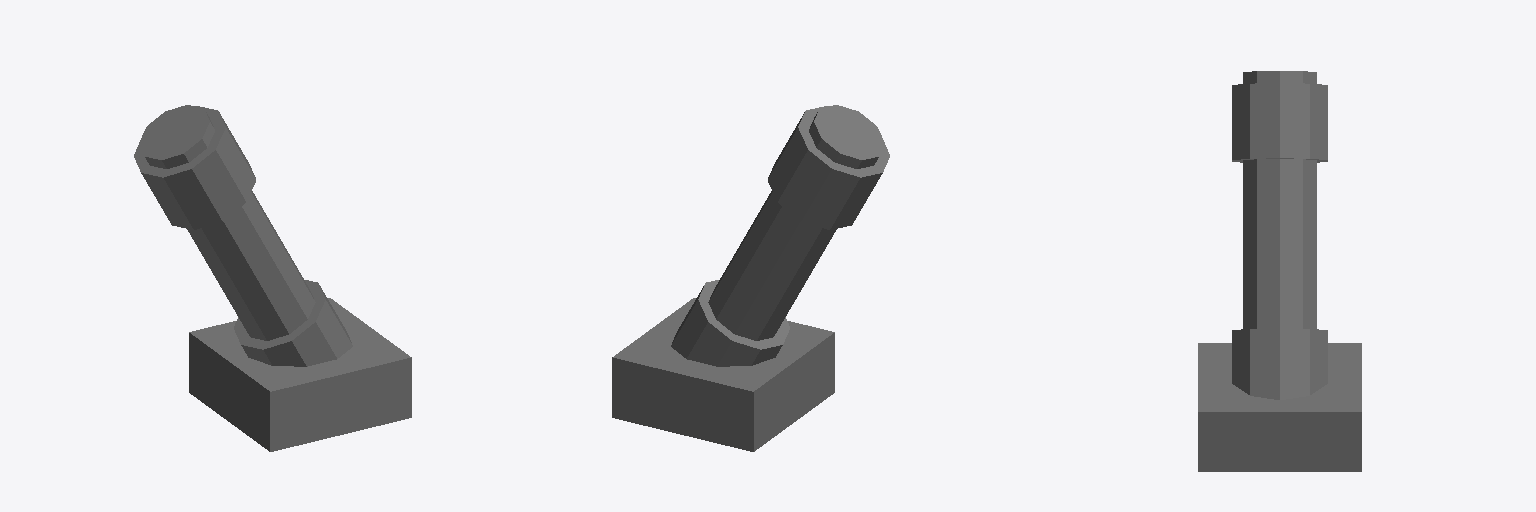
File: Pylon.obj
3 renders of one model, left to right at view 1: azimuth 30°, elevation 25°; view 2: azimuth 150°, elevation 25°; view 3: azimuth 270°, elevation 25°, orthographic.
Visible parts, largest first — view 1: pCube3, pCylinder1, pCylinder2, pCylinder3; view 2: pCube3, pCylinder1, pCylinder2, pCylinder3; view 3: pCube3, pCylinder1, pCylinder2, pCylinder3.
Part boxes in pixels (x1,y1,x2,y2): pCube3: (189, 298, 411, 451); pCylinder1: (139, 105, 315, 340); pCylinder2: (134, 106, 255, 229); pCylinder3: (234, 280, 352, 366); pCube3: (612, 298, 834, 451); pCylinder1: (708, 105, 884, 340); pCylinder2: (768, 106, 889, 229); pCylinder3: (671, 280, 789, 366); pCube3: (1198, 343, 1361, 471); pCylinder1: (1243, 71, 1316, 328); pCylinder2: (1232, 83, 1327, 162); pCylinder3: (1232, 328, 1327, 399).
Size of the model in its own units: 10.58 by 14.08 by 6.5.